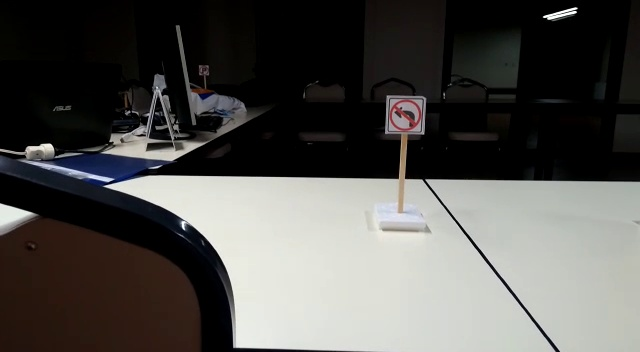sola_donulmez: (387, 96, 426, 131)
